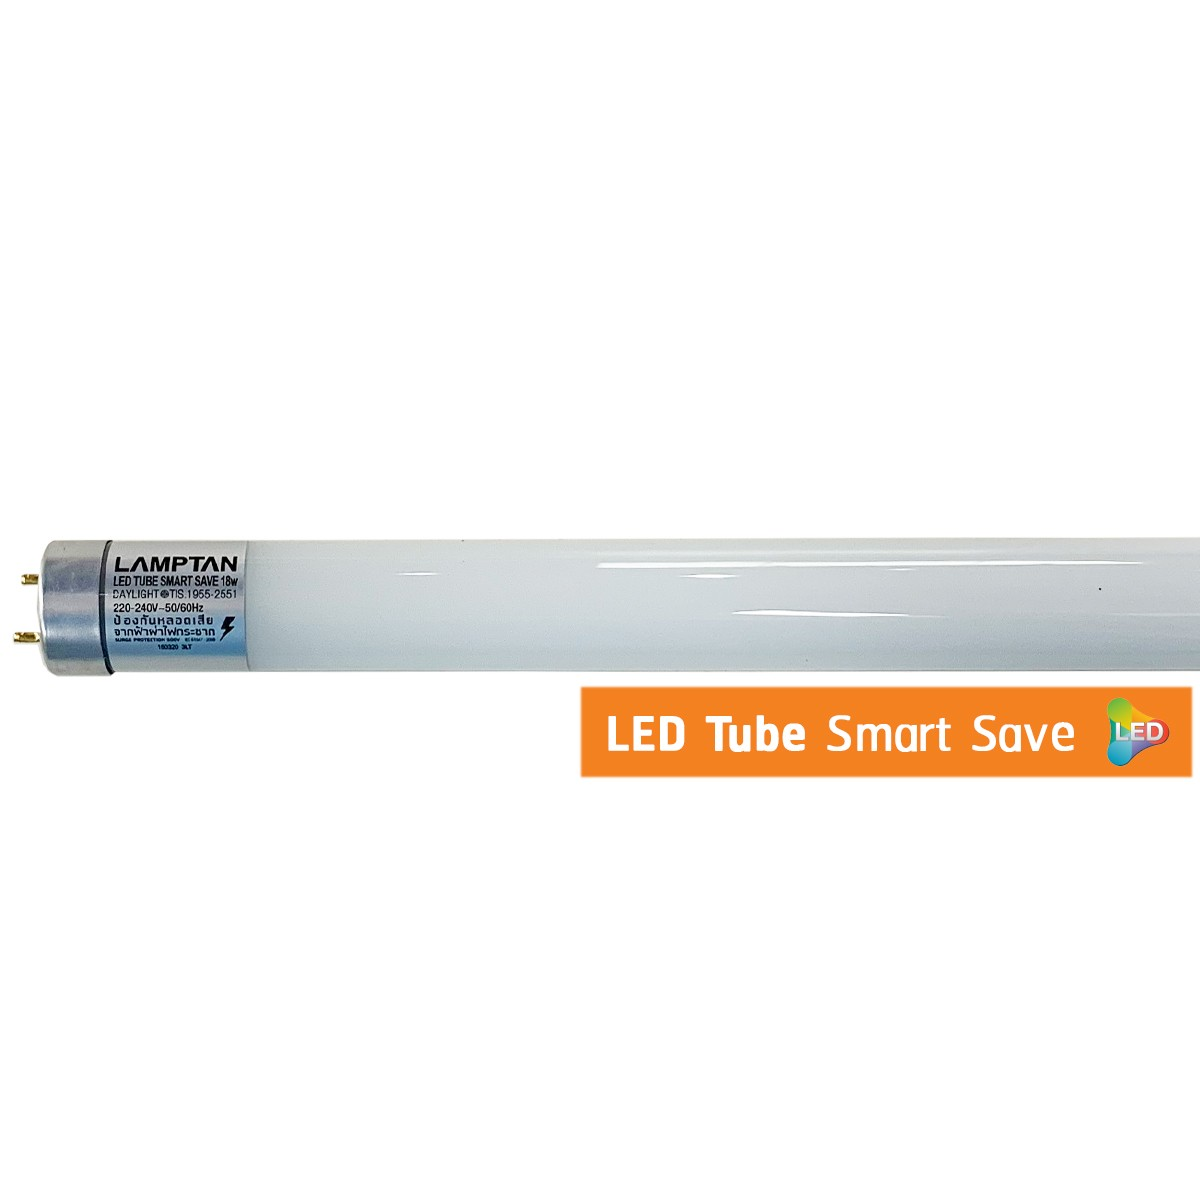Light_bulb: (12, 524, 1200, 680)
